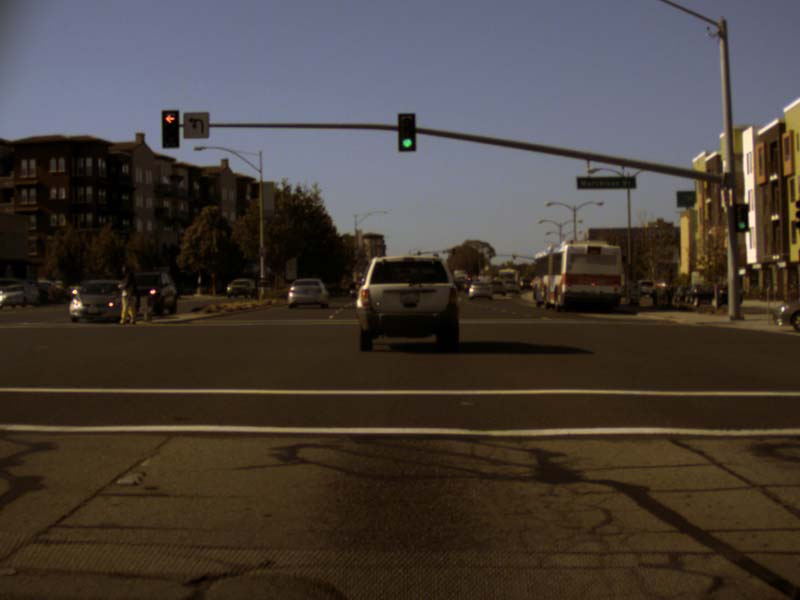Green: (397, 113, 415, 151), (735, 204, 748, 231)
Red: (162, 111, 178, 147), (488, 253, 491, 258), (512, 253, 515, 258)
